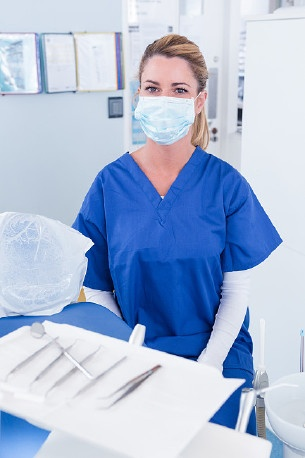Mask: (135, 74, 200, 140)
